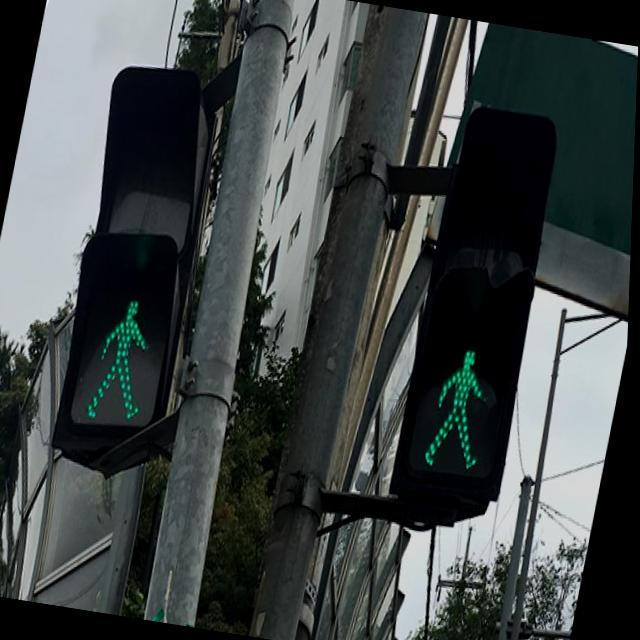green_light: (407, 342, 521, 484), (73, 289, 174, 428)
